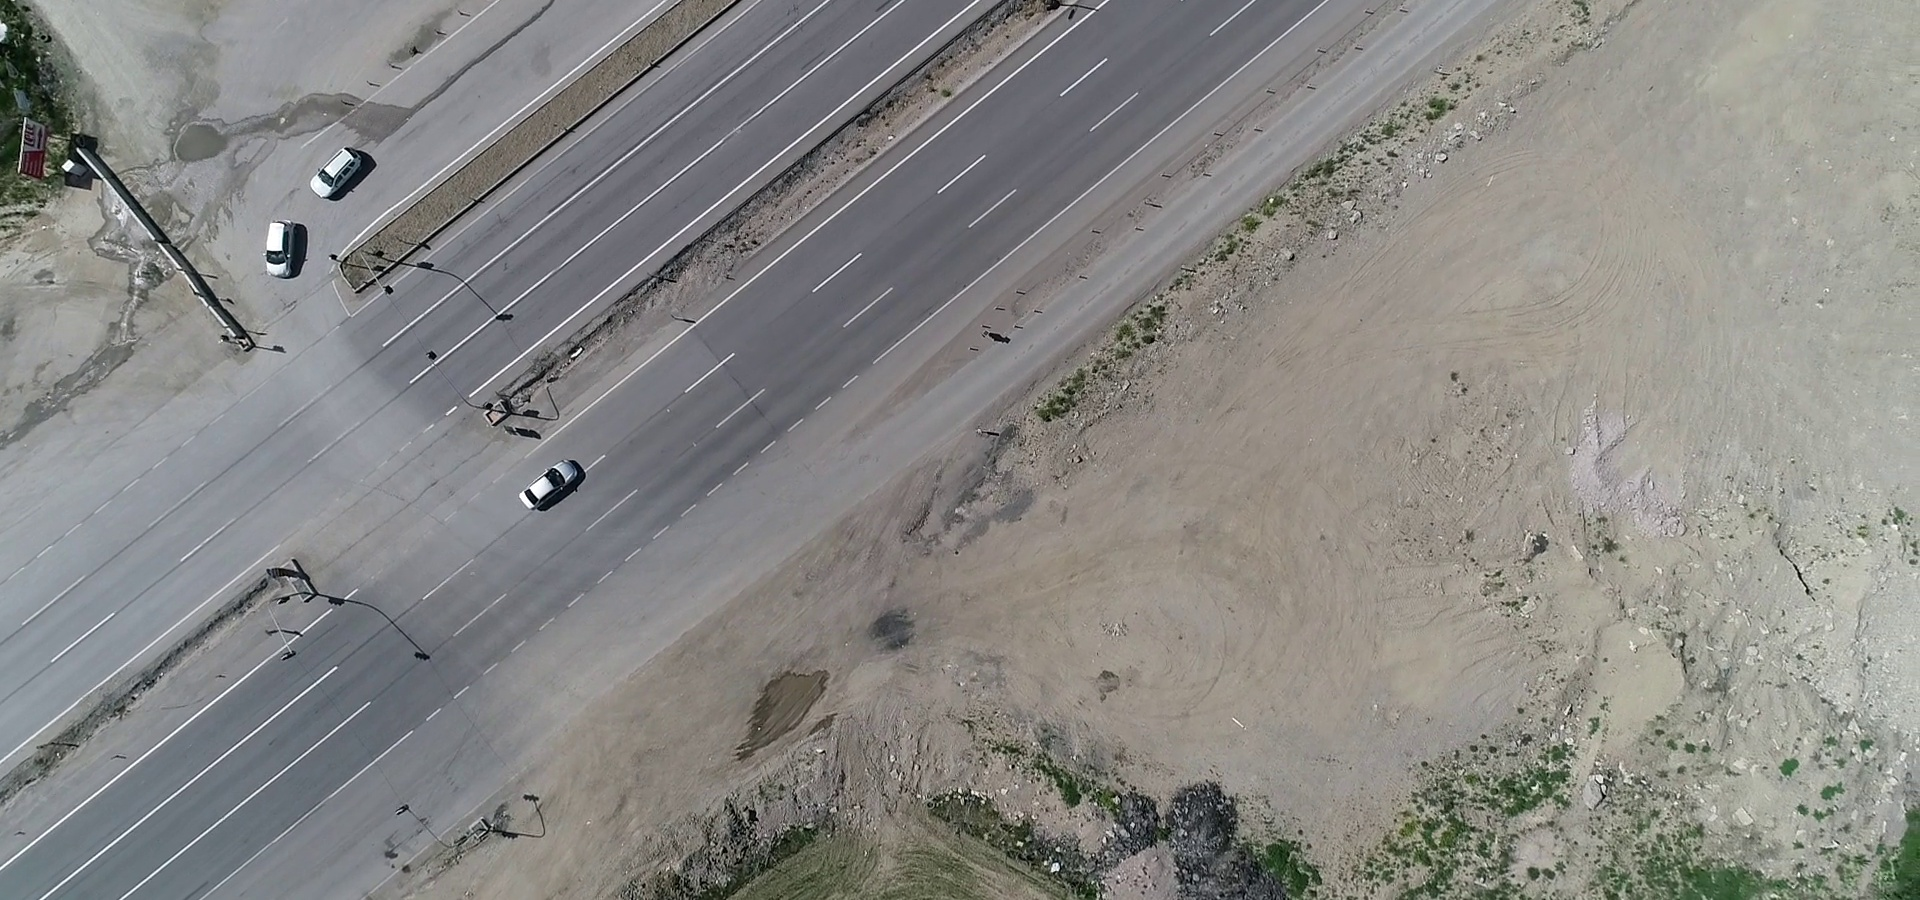arac: (509, 454, 591, 517), (301, 137, 369, 204), (260, 212, 302, 280)
